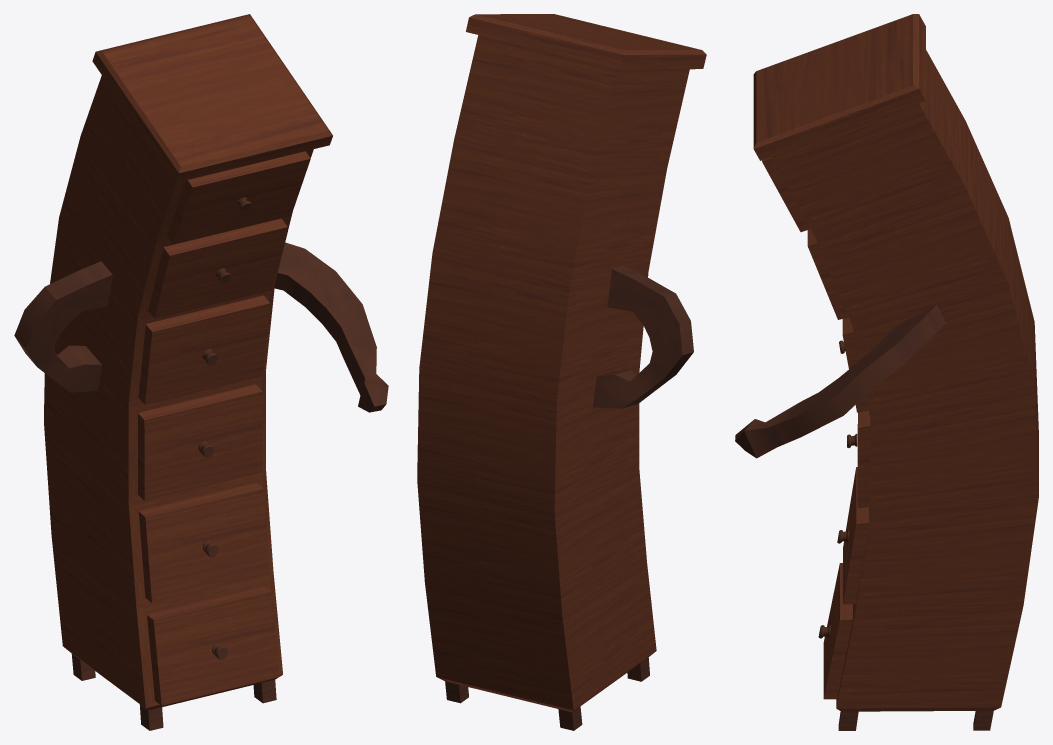
Rendered from Cabinet_variation_4.fbx.
3 views of the same model, side by side, from view 1: azimuth 30°, elevation 25°; view 2: azimuth 150°, elevation 25°; view 3: azimuth 270°, elevation 25° (orthographic).
Parts seen in each view (by area): view 1: Cabinet_variation_4; view 2: Cabinet_variation_4; view 3: Cabinet_variation_4.
Part boxes in pixels (x1,y1,x2,y2): Cabinet_variation_4: (14, 14, 388, 730); Cabinet_variation_4: (417, 14, 706, 730); Cabinet_variation_4: (735, 14, 1038, 730).
Bounding box in the file's own units: 429 × 911 × 386.
